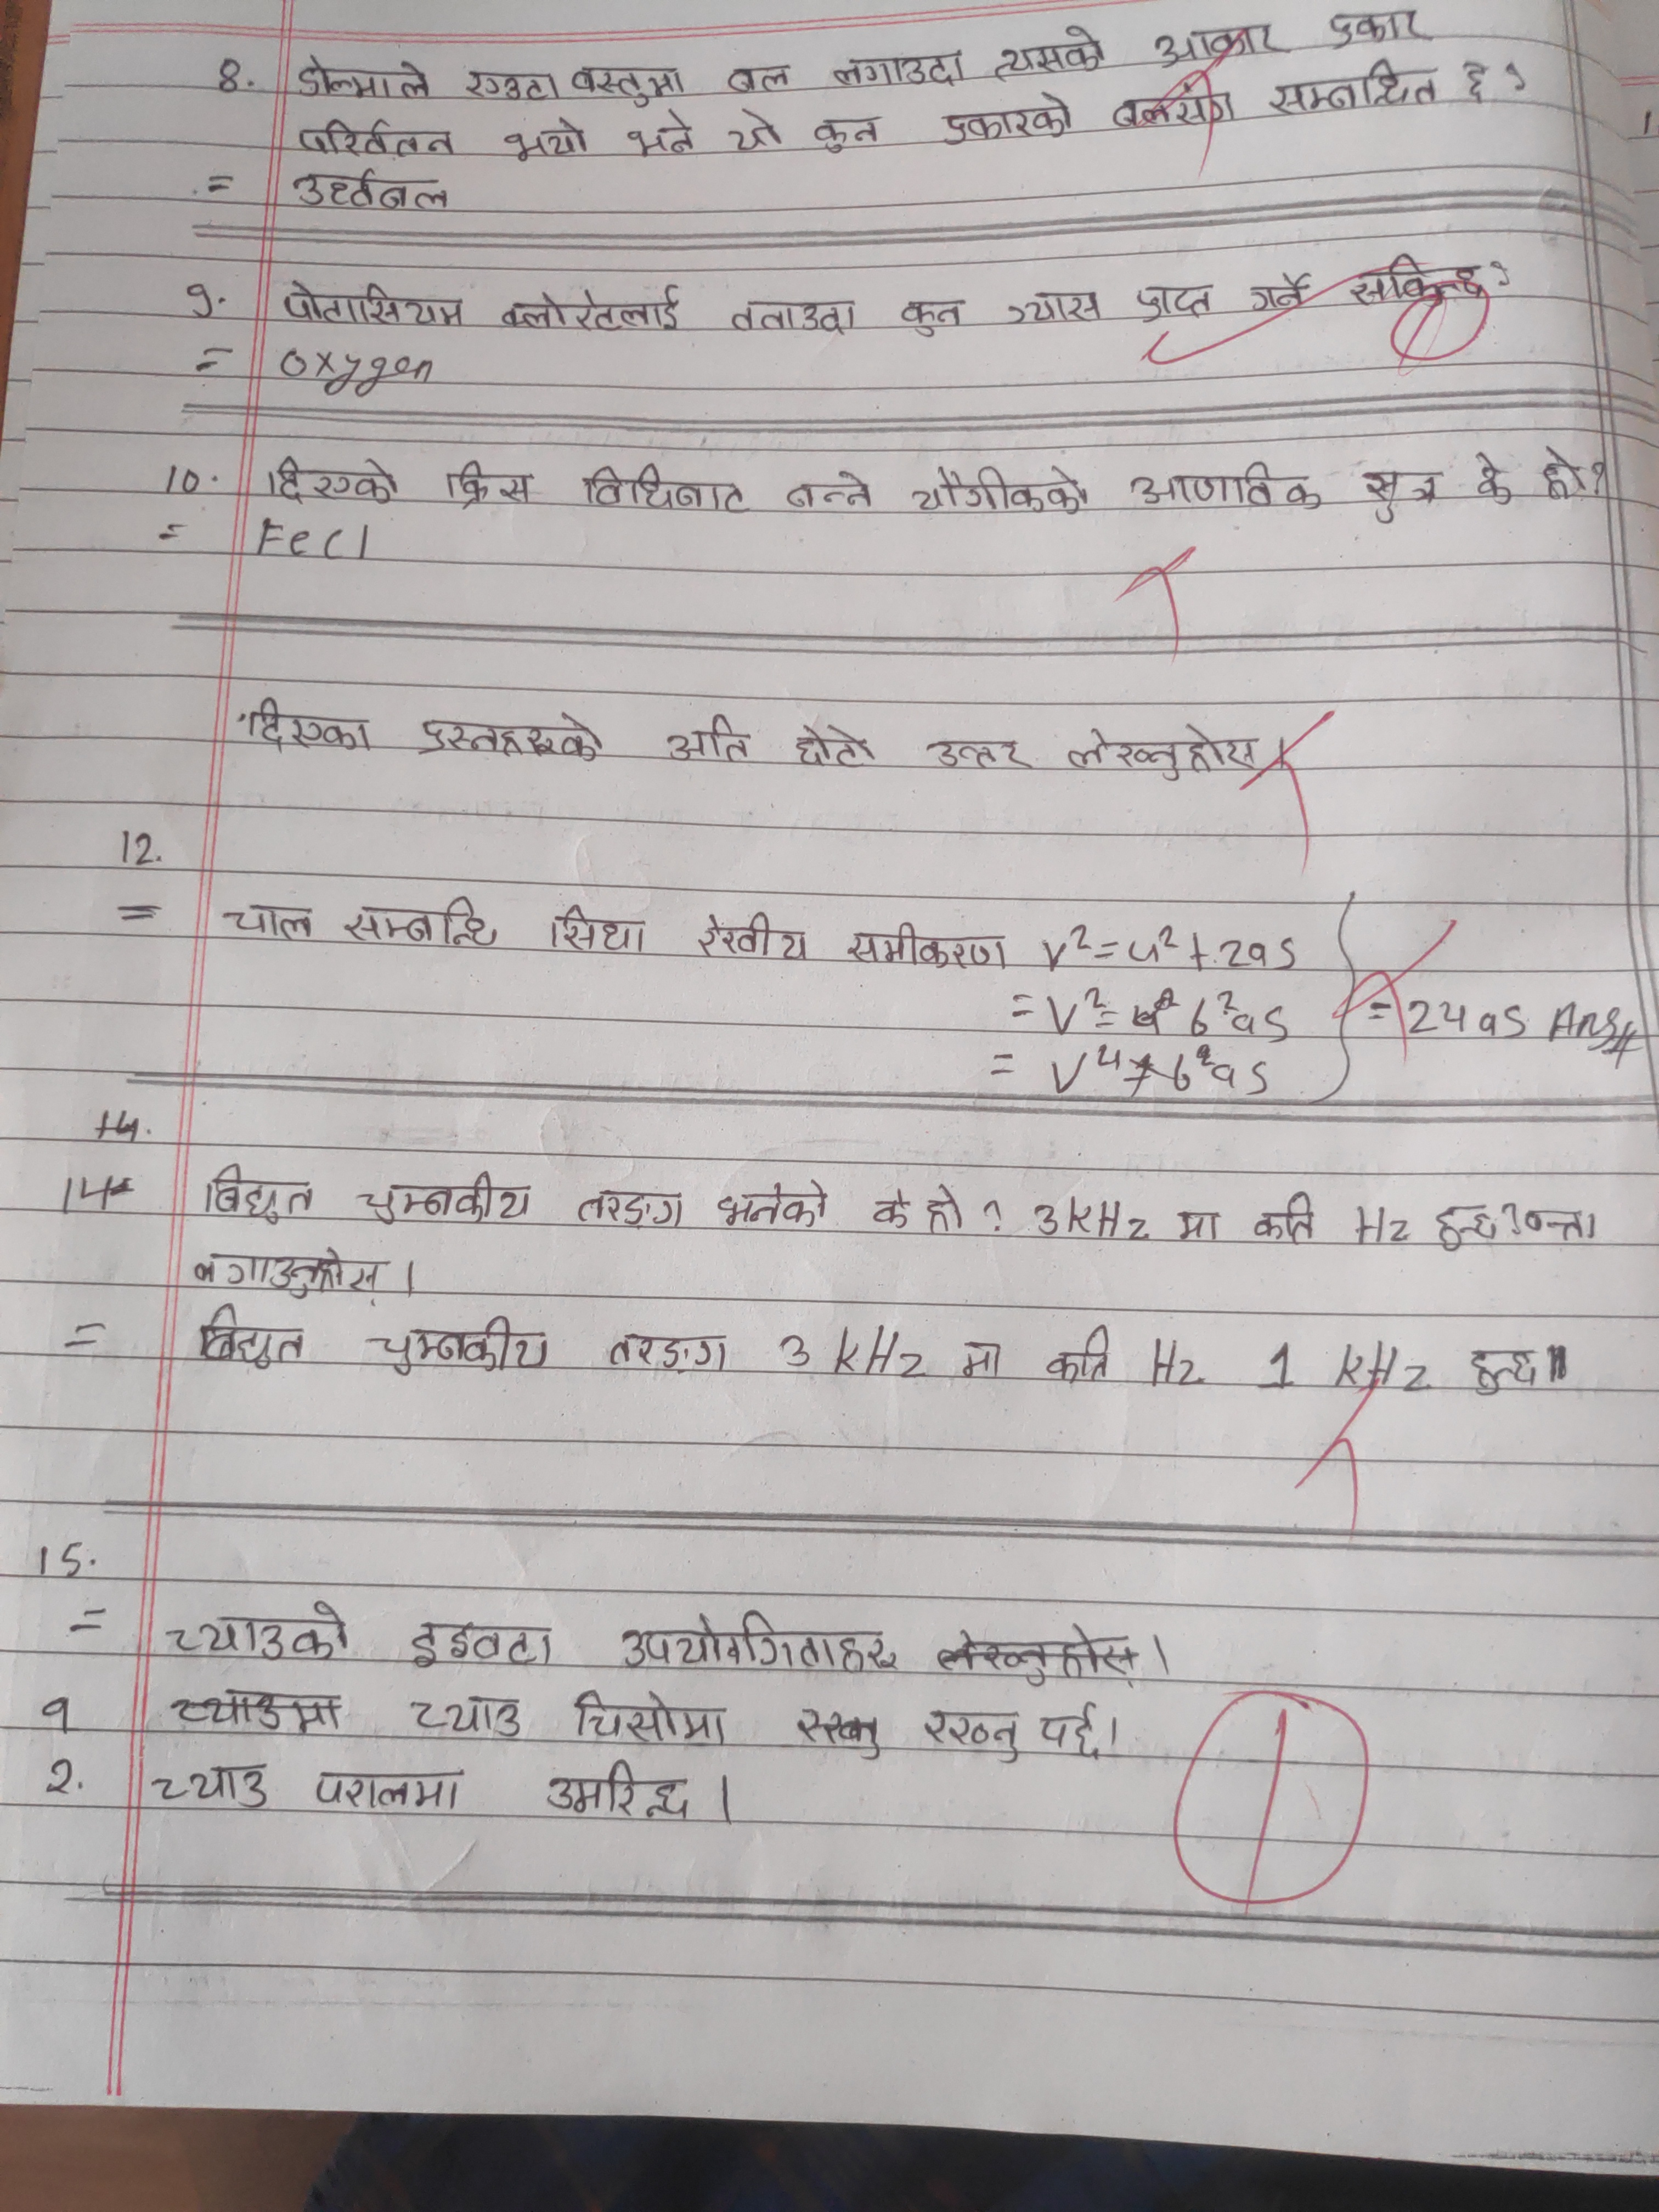text: (610, 1608, 908, 1672), (166, 1599, 359, 1665), (183, 1245, 390, 1305), (369, 1313, 558, 1378), (1122, 460, 1328, 516), (356, 1169, 538, 1230), (918, 1703, 1107, 1763), (277, 272, 469, 329), (1065, 725, 1262, 780), (418, 709, 608, 766), (535, 1757, 702, 1822), (580, 458, 755, 517), (903, 463, 1093, 517), (566, 1688, 735, 1747), (498, 284, 688, 334), (310, 1759, 465, 1820), (1265, 63, 1439, 115), (195, 1301, 312, 1378), (408, 1620, 556, 1679), (845, 921, 1012, 974), (291, 164, 450, 216), (342, 897, 500, 949), (1347, 251, 1488, 308), (293, 115, 462, 162), (986, 24, 1112, 87), (246, 700, 380, 758), (690, 909, 821, 967), (404, 1686, 528, 1745), (289, 51, 434, 101), (261, 455, 403, 505), (199, 1163, 317, 1223), (720, 293, 863, 341), (598, 1325, 735, 1376), (945, 91, 1072, 145), (565, 57, 688, 110), (709, 1176, 828, 1230), (831, 49, 972, 94), (568, 1183, 692, 1233), (545, 907, 653, 965), (150, 1763, 270, 1811), (1110, 82, 1239, 127), (1324, 5, 1436, 54), (659, 714, 756, 770), (441, 458, 533, 516), (1152, 23, 1284, 63), (1359, 462, 1443, 524), (784, 723, 880, 775), (622, 105, 701, 167), (500, 118, 594, 167), (1134, 277, 1216, 333), (1467, 1343, 1546, 1400), (1046, 1322, 1112, 1388), (1248, 1190, 1321, 1249), (784, 463, 875, 510), (221, 900, 321, 942), (458, 64, 566, 103), (1004, 287, 1107, 327), (1520, 1202, 1601, 1251), (1429, 1200, 1500, 1251), (725, 105, 791, 157), (892, 298, 969, 341), (723, 59, 800, 101), (1534, 441, 1586, 502), (929, 740, 1033, 770), (814, 111, 884, 155), (953, 1334, 1004, 1388), (1467, 449, 1516, 505), (924, 1181, 967, 1240), (1246, 272, 1307, 312), (868, 1190, 913, 1237), (1459, 54, 1493, 113), (1173, 1205, 1223, 1245)
